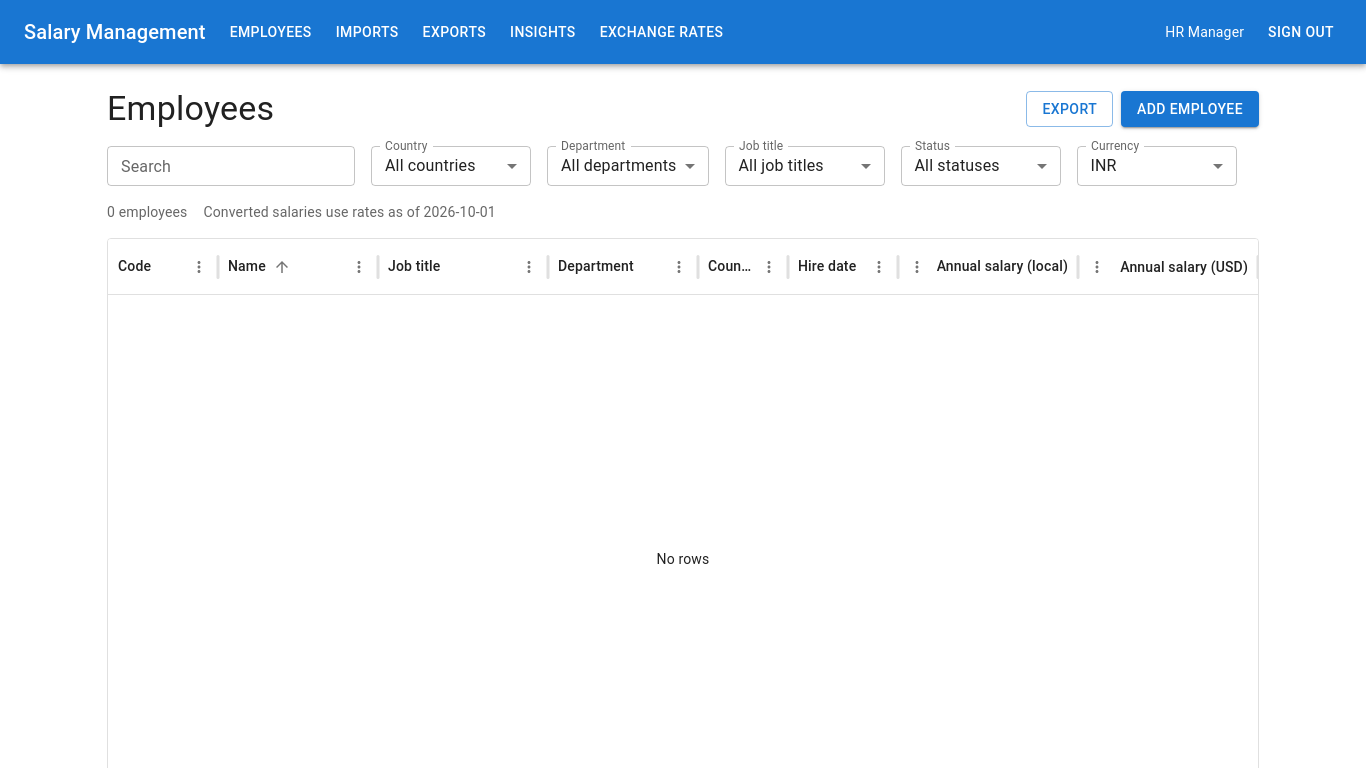
Test: export menu on the employees list › shows why queueing failed inside the dialog
Click the button "Export": (1070, 109) x1=1026 y1=91 x2=1113 y2=127
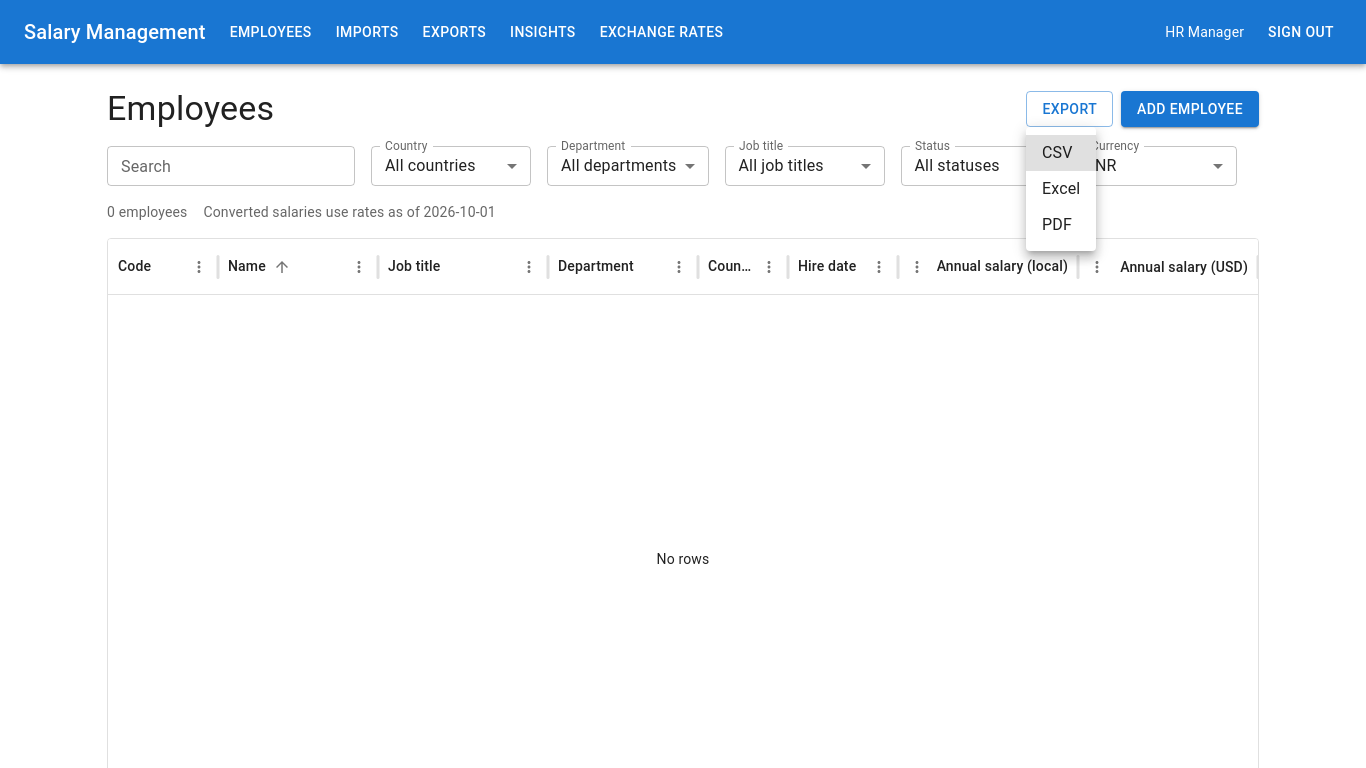
Click the menu item "PDF": (1057, 224) x1=1042 y1=215 x2=1072 y2=234
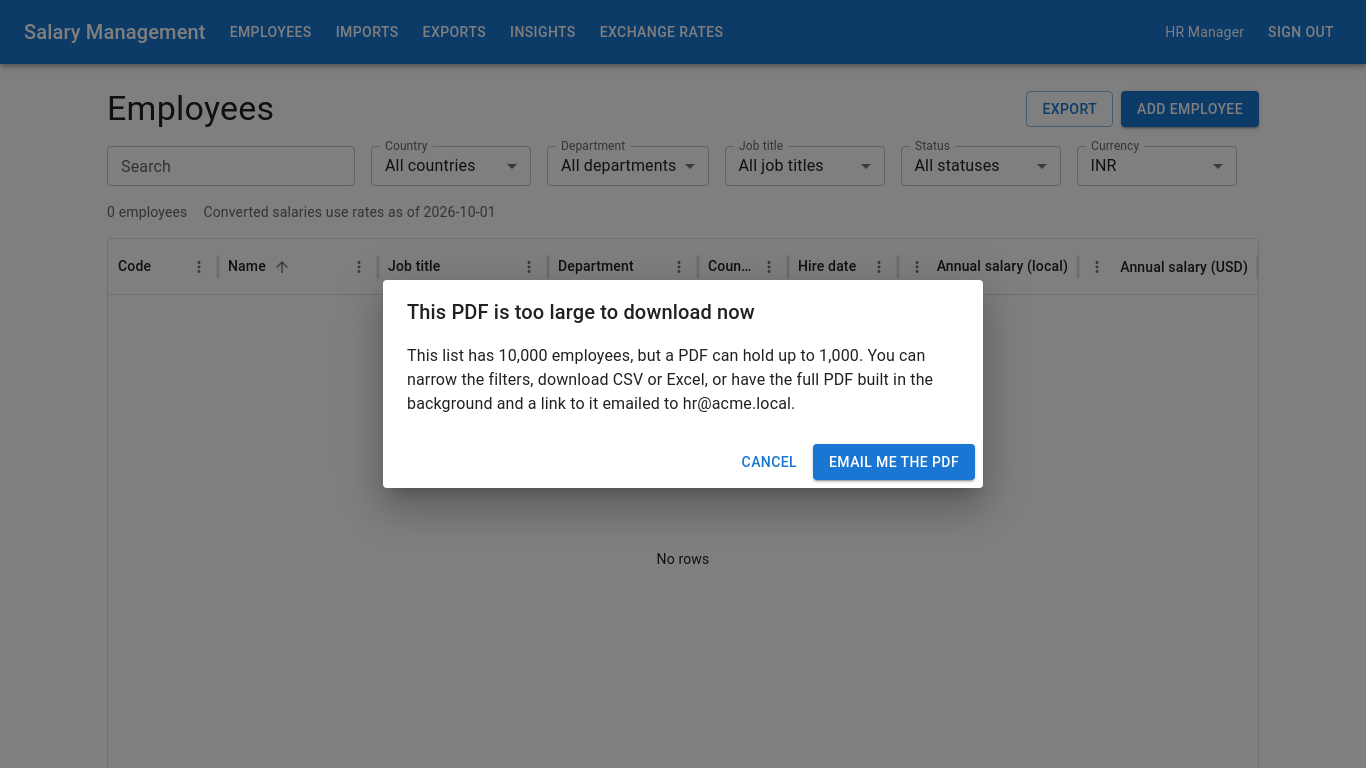
Click the button "Email me the PDF": (894, 462) x1=813 y1=444 x2=975 y2=480
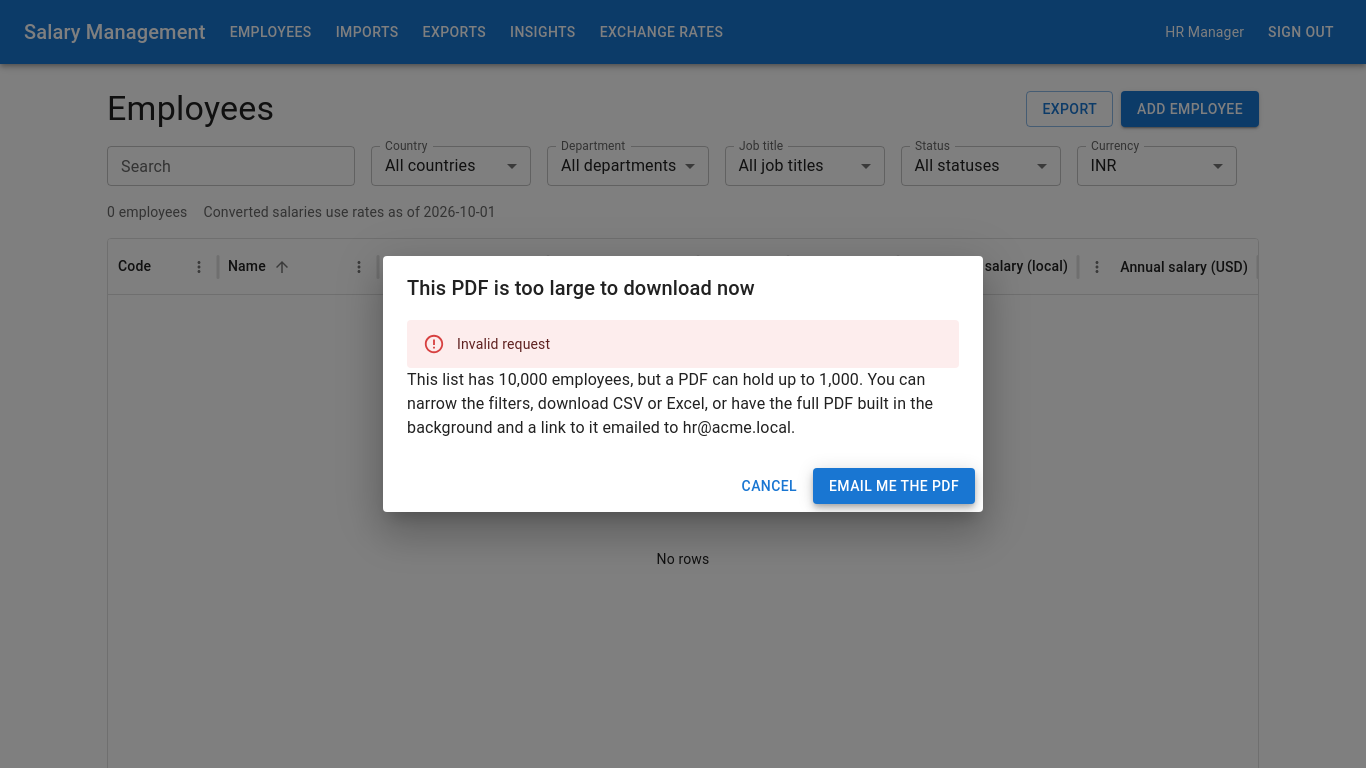
Now the message reads "Invalid request", box x1=457 y1=336 x2=550 y2=352
